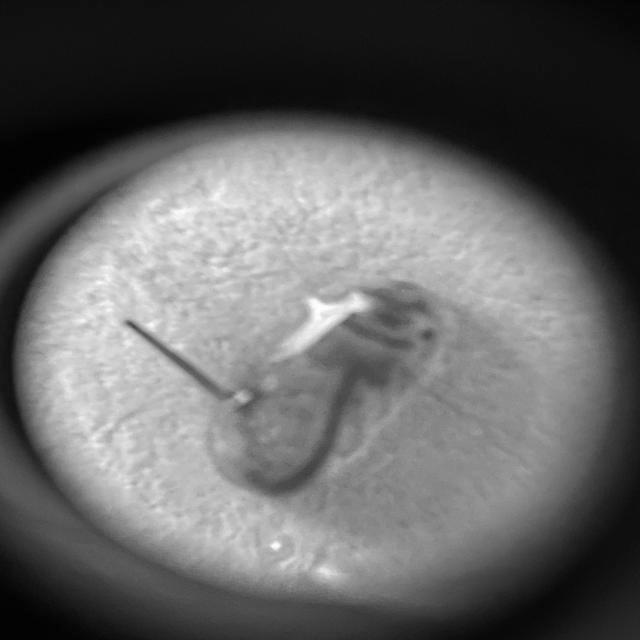larvas: (205, 284, 455, 498)
